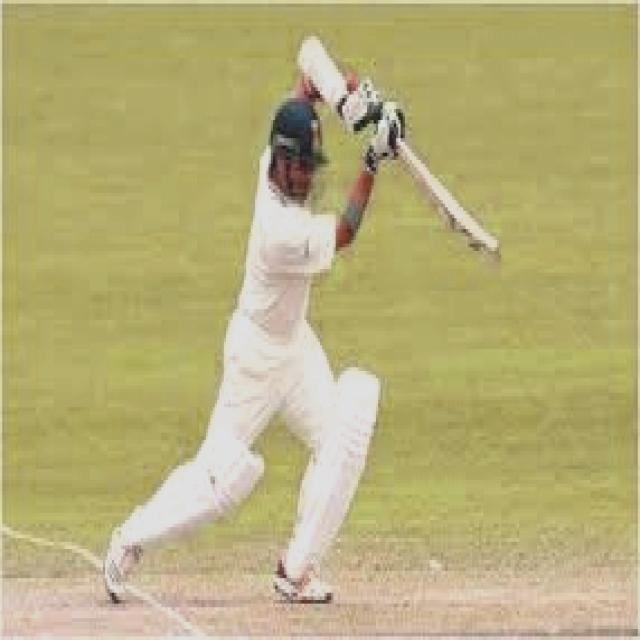bat: (399, 145, 502, 256)
